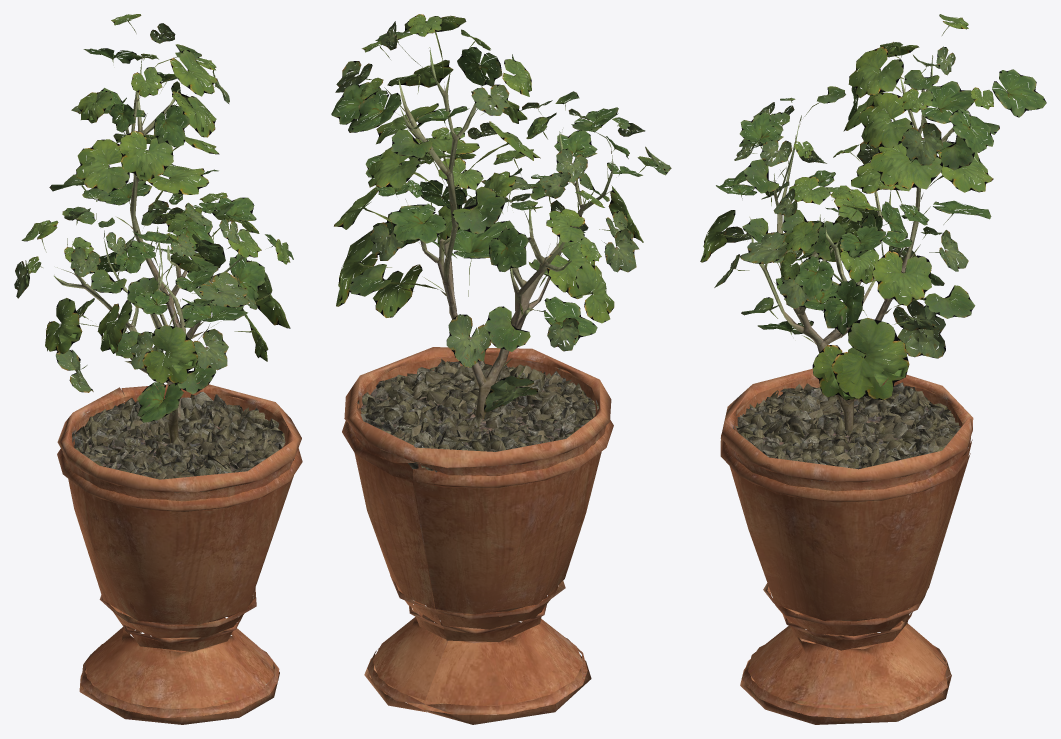
Rendered from potted_plant_01.glb.
3 views of the same model, side by side, from view 1: azimuth 30°, elevation 25°; view 2: azimuth 150°, elevation 25°; view 3: azimuth 270°, elevation 25° (orthographic). The views are drawn at different scales.
Visible parts, largest first — view 1: potted_plant_01_pot, potted_plant_01_leaves, potted_plant_01_pebbles, potted_plant_01_stem; view 2: potted_plant_01_pot, potted_plant_01_leaves, potted_plant_01_pebbles, potted_plant_01_stem; view 3: potted_plant_01_pot, potted_plant_01_leaves, potted_plant_01_pebbles, potted_plant_01_stem.
Part boxes in pixels (x1,y1,x2,y2): potted_plant_01_pot: (57, 382, 302, 724); potted_plant_01_leaves: (14, 14, 293, 422); potted_plant_01_pebbles: (72, 391, 285, 492); potted_plant_01_stem: (54, 55, 251, 442); potted_plant_01_pot: (342, 347, 613, 724); potted_plant_01_leaves: (331, 14, 671, 412); potted_plant_01_pebbles: (357, 358, 598, 472); potted_plant_01_stem: (398, 47, 612, 419); potted_plant_01_pot: (720, 368, 973, 724); potted_plant_01_leaves: (700, 14, 1046, 400); potted_plant_01_pebbles: (733, 382, 960, 482); potted_plant_01_stem: (751, 55, 966, 430).
Bounding box in the file's own units: 0.5854 × 1.34 × 0.6335.
Materials: 2 (2 with a texture image).
